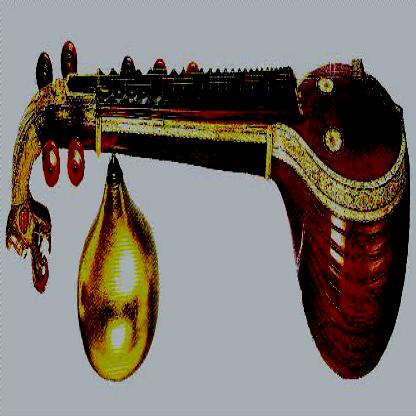Veena: (22, 30, 415, 204)
